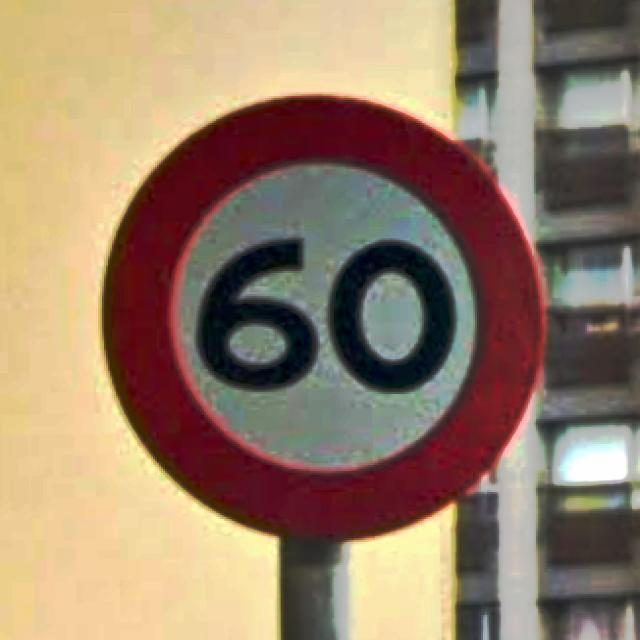max60: (98, 88, 550, 542)
